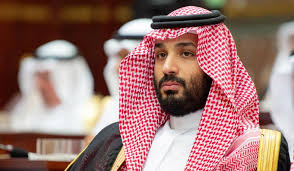middle_eastern_male: (152, 27, 218, 111)
